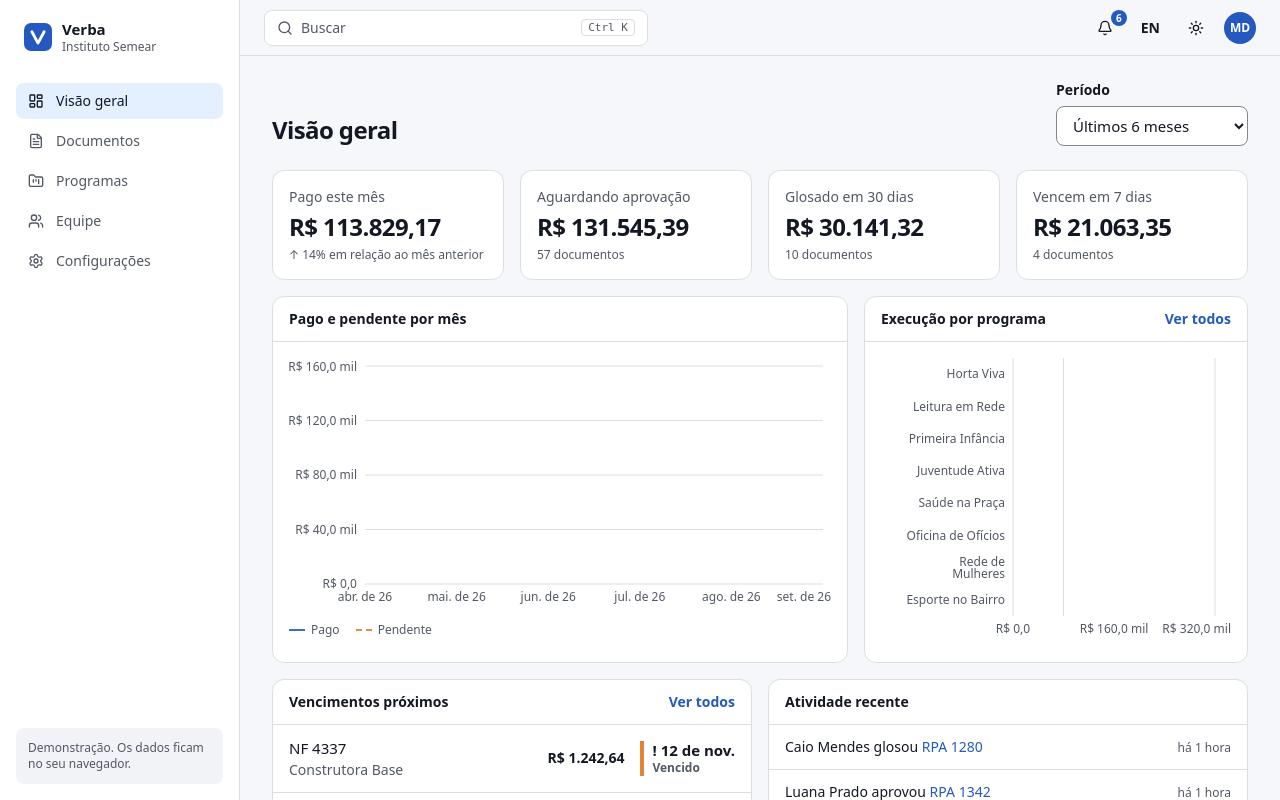
command palette › opens with Ctrl+K, keeps focus in the field and navigates on Enter
The image size is (1280, 800).
Type keys "{Control>}k{/Control}"
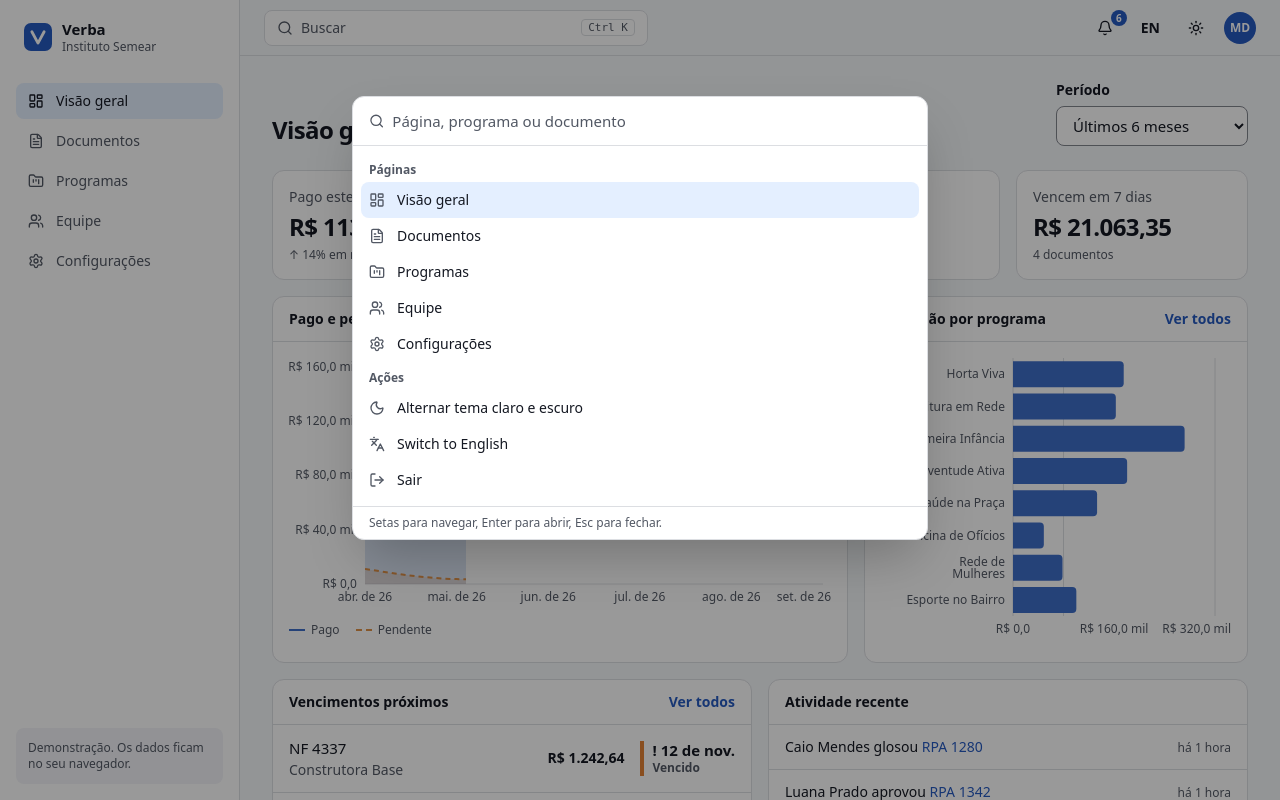
Type "equi" into the dropdown named "Buscar ou ir para" at (652, 121), box [392,97,911,145]
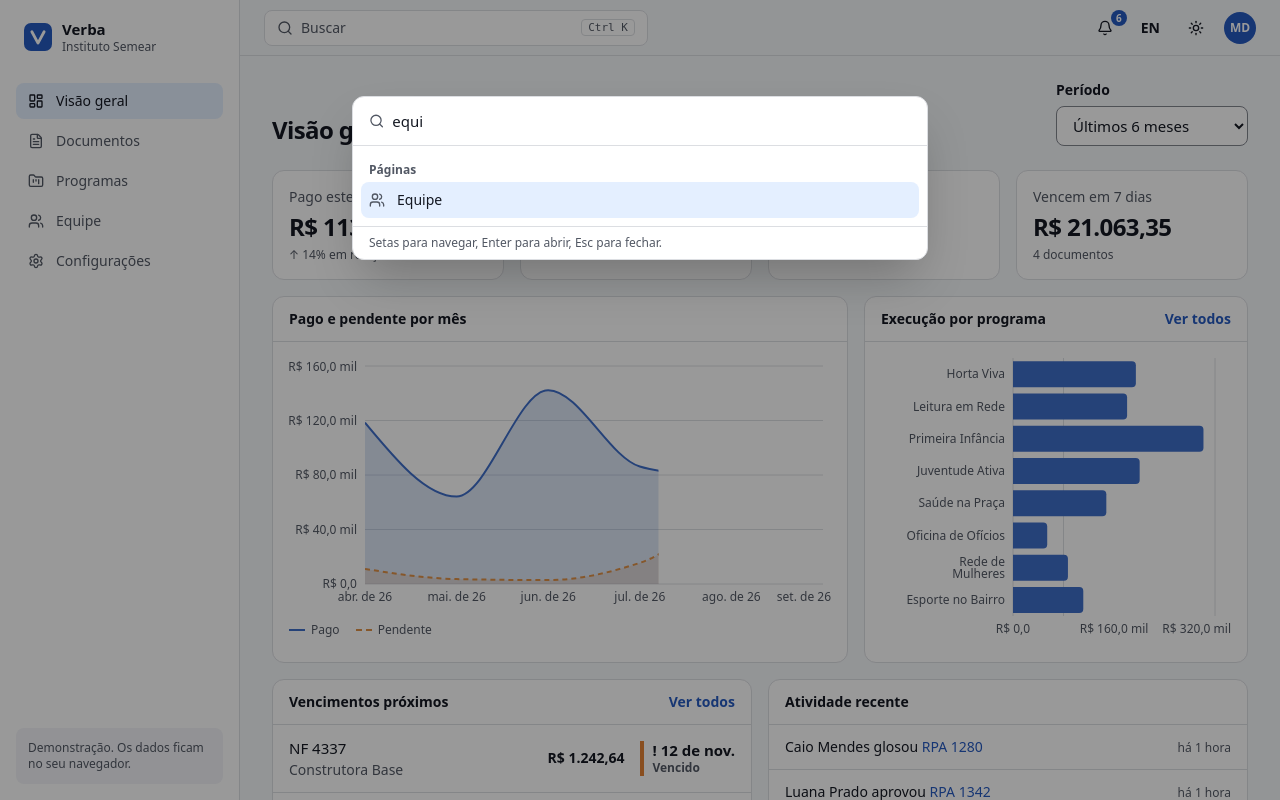
Press Arrowdown
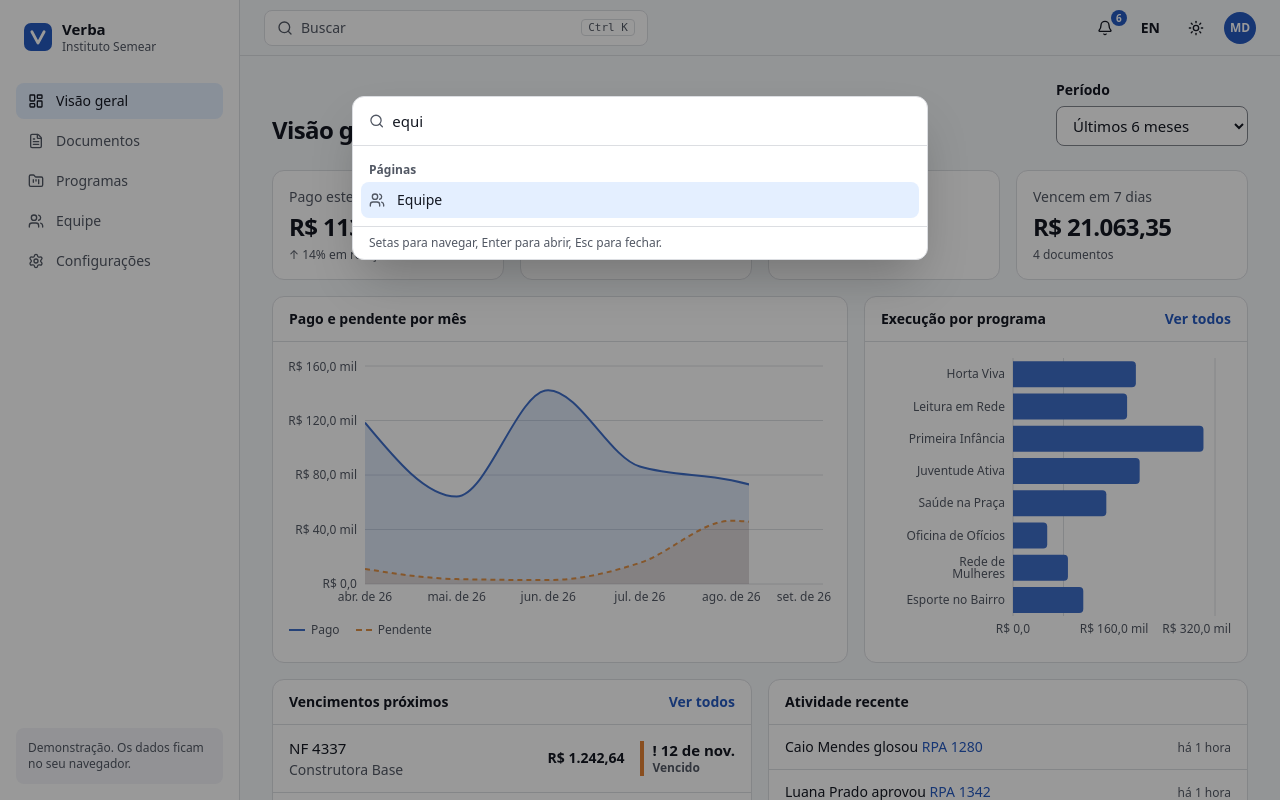
Press Home Enter
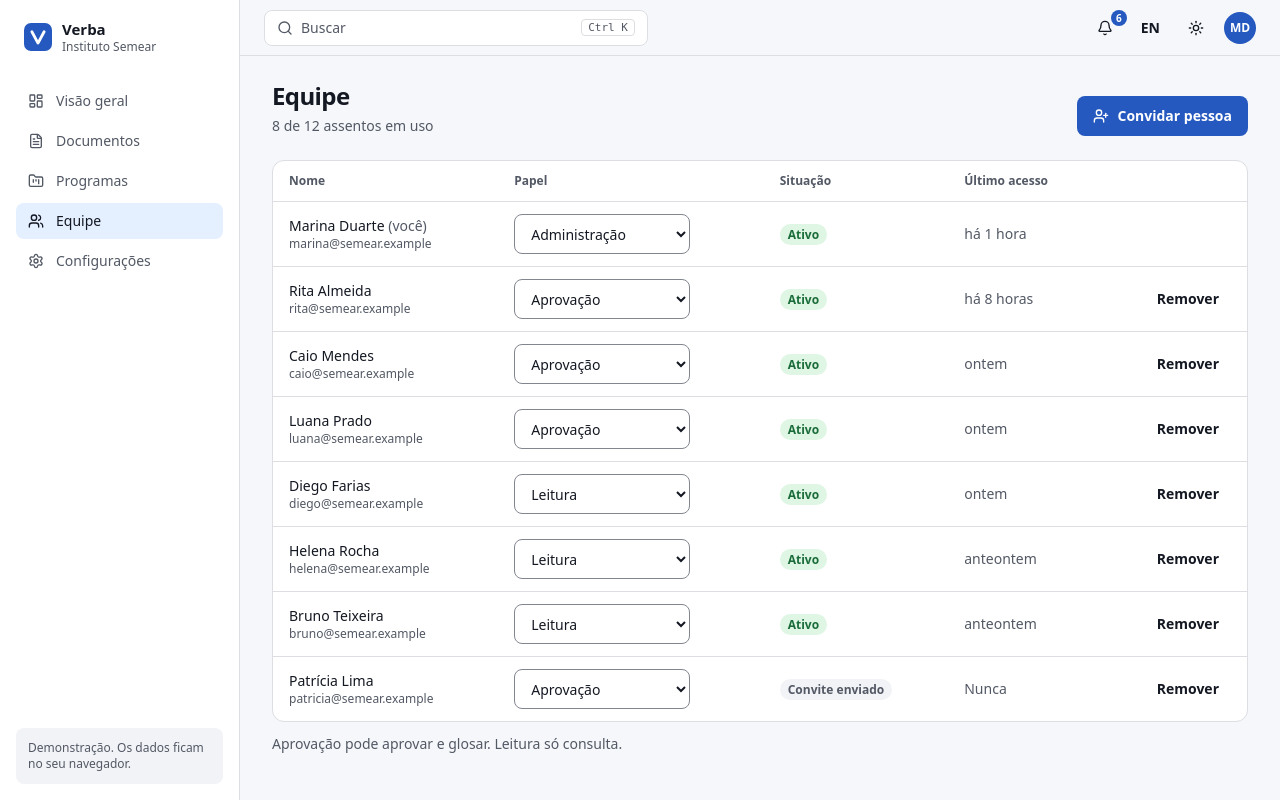
Check: the heading "Equipe" is shown, box [272,79,350,112]
